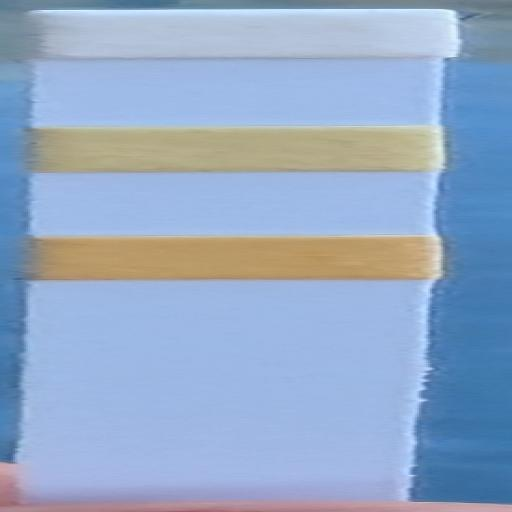pads: (25, 10, 464, 58), (31, 127, 441, 173), (25, 236, 439, 280)
